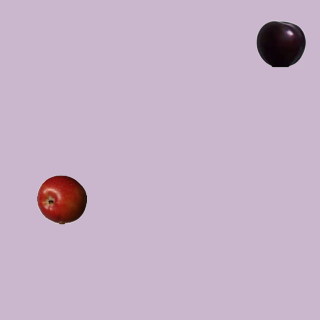Apple Braeburn: (36, 174, 86, 224)
Cherry Wax Black: (255, 18, 305, 68)
